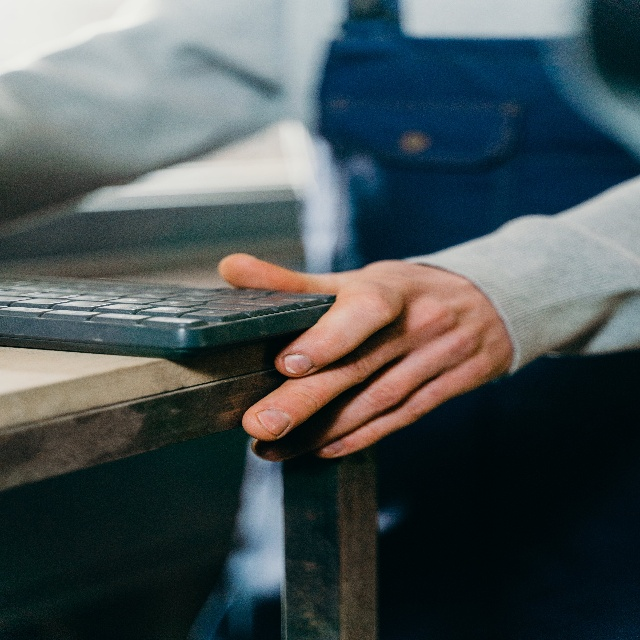Sin_guantes: (216, 247, 510, 447)
